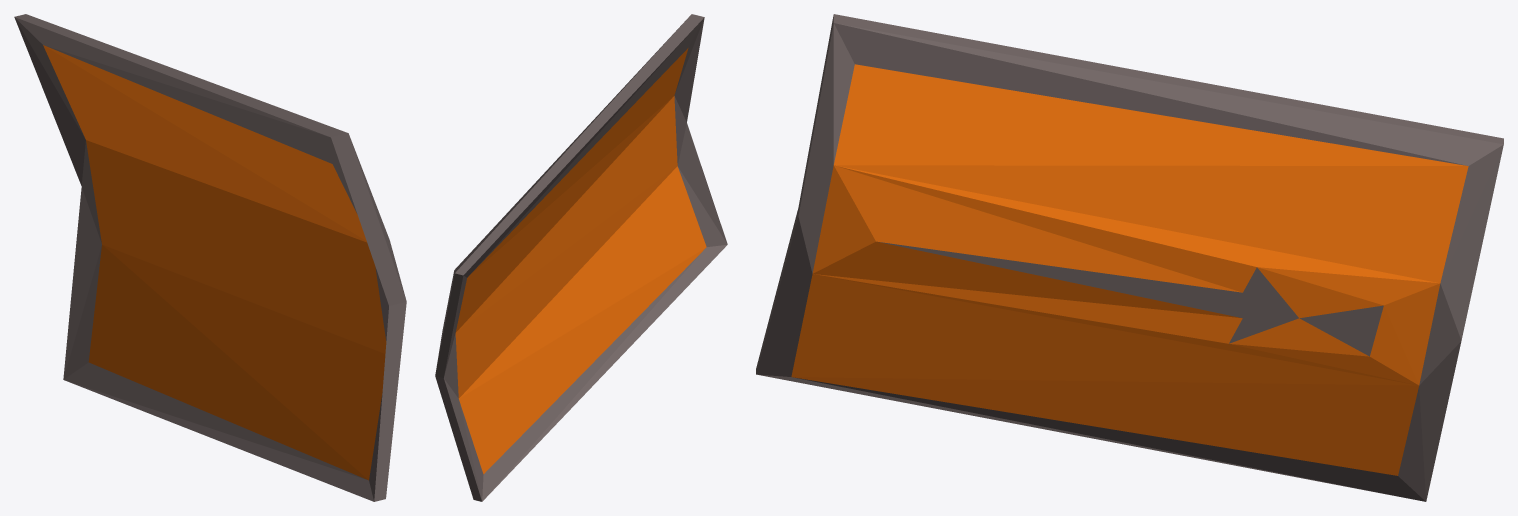
File: model_526_obj_wear.obj
3 views of the same model, side by side, from view 1: azimuth 30°, elevation 25°; view 2: azimuth 150°, elevation 25°; view 3: azimuth 270°, elevation 25° (orthographic). The views are drawn at different scales.
Visible parts, largest first — view 1: 526; view 2: 526; view 3: 526.
Boxes of the visible parts, left/top/right/bottom form: 526: left=14, top=14, right=406, bottom=501; 526: left=435, top=14, right=727, bottom=501; 526: left=756, top=14, right=1503, bottom=501.
Bounding box in the file's own units: 12 × 74 × 106.
